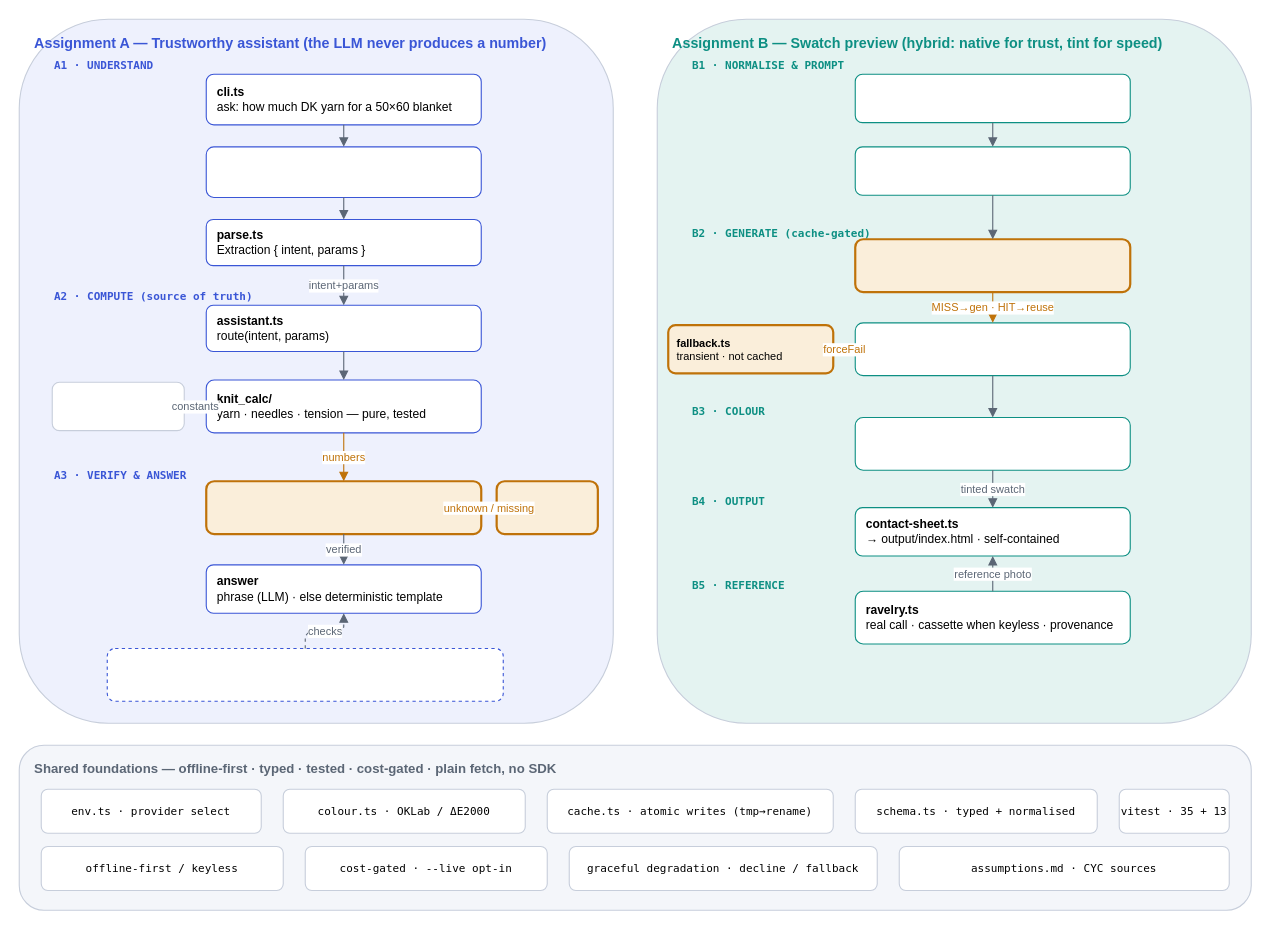
Some shapes in this 1271 by 930 pixel diagram are drawn without their labels. Here are the shapes that lost their labels. From the top down, the centre of each, then its label:
point (992, 98): schema.ts normalise(input) · typed, hex expanded
point (343, 171): llm.ts Offline parser · Anthropic Haiku · OpenAI
point (992, 170): prompt.ts buildPrompt · structure-first · PROMPT_VERSION
point (992, 265): cache.ts · structureKey excludes colour → one base per stitch
point (992, 349): generator.ts mock.ts SVG (keyless) · gpt-image-1 (--live)
point (117, 406): data.ts CYC constants
point (992, 443): tint.ts + colour.ts OKLab: hue+chroma = hex · ΔE2000 ≤ 2
point (343, 507): verify gate every number must appear · else template
point (546, 507): decline no numbers
point (304, 674): eval/ — independent oracle 20 Qs · routing · numbers · latency · 100% offline
